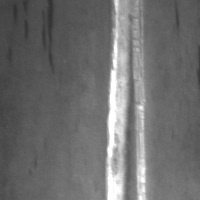inclusion: (38, 1, 56, 72), (12, 1, 30, 40), (170, 1, 182, 28)
scratches: (104, 1, 150, 200)
